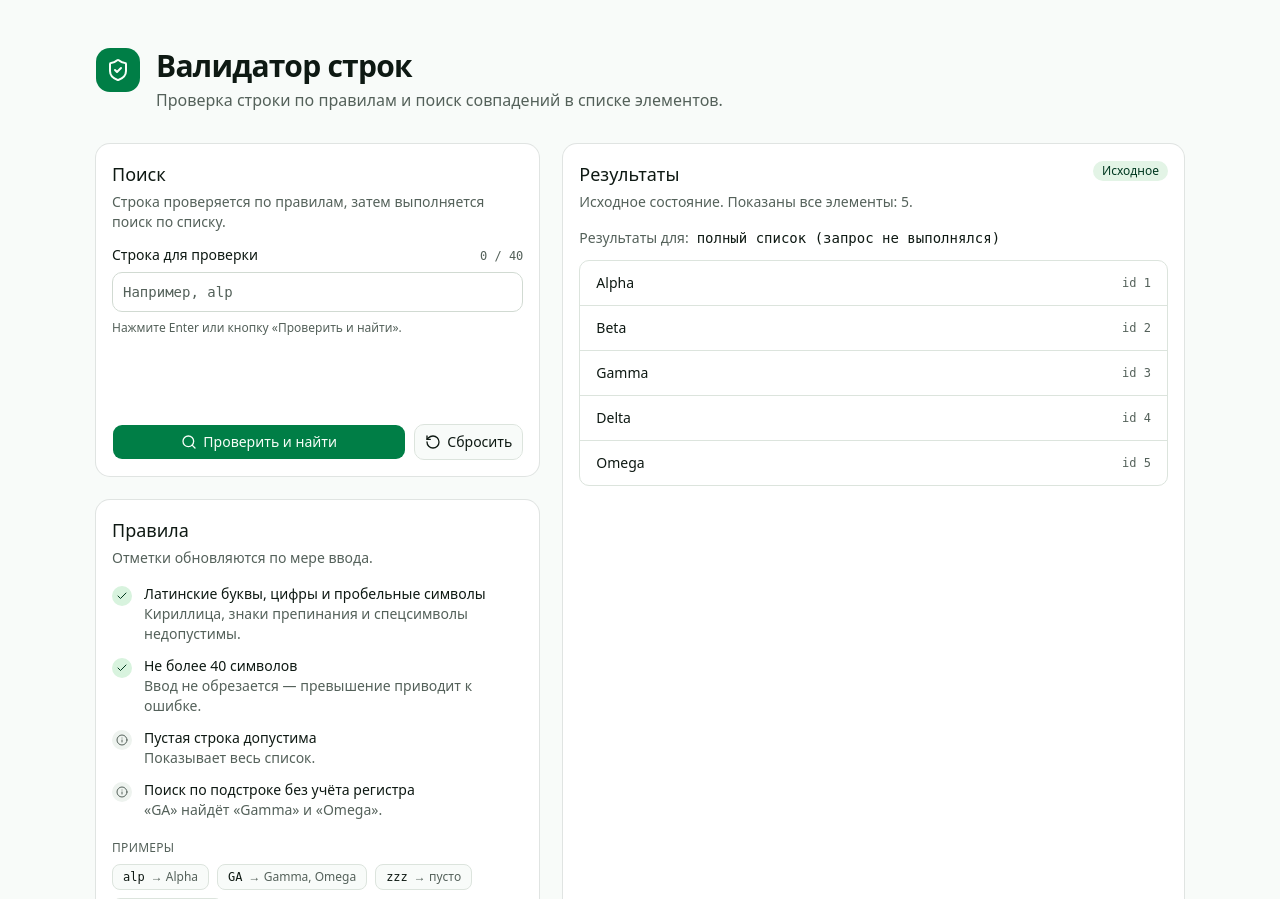
Test case: Компоненты и взаимодействия › selects an example, updates the counter and focuses input without submitting
The width and height of the screenshot is (1280, 899).
Click the button with aria-label "Подставить пример «alp»" at (161, 877), box [112, 864, 209, 890]
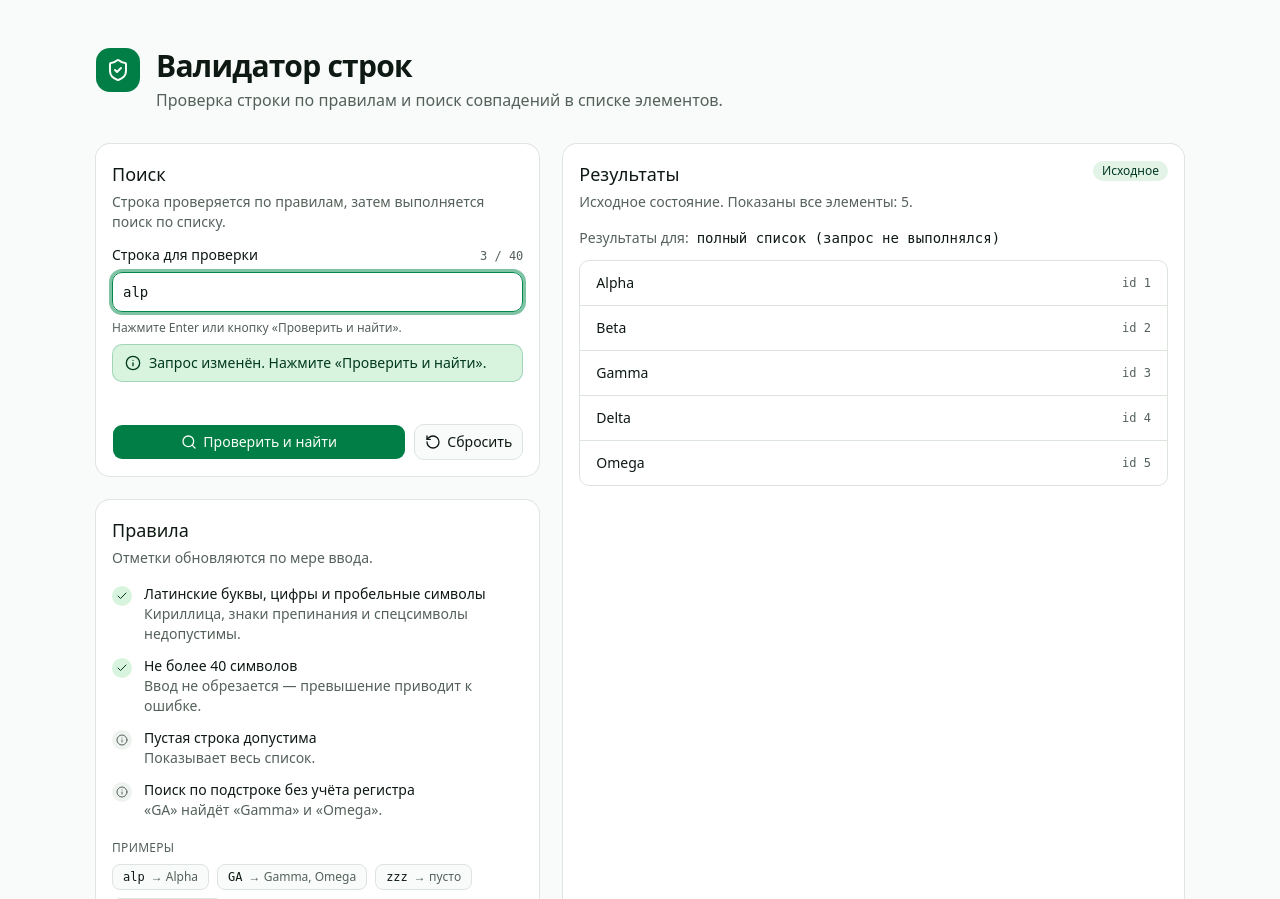
Expected: the field labelled "Строка для проверки" holds "alp", [112, 272, 523, 312]
Expected: the text "3 / 40" is shown, [480, 248, 523, 264]
Expected: the text "Запрос изменён. Нажмите «Проверить и найти»." is shown, [112, 344, 523, 382]
